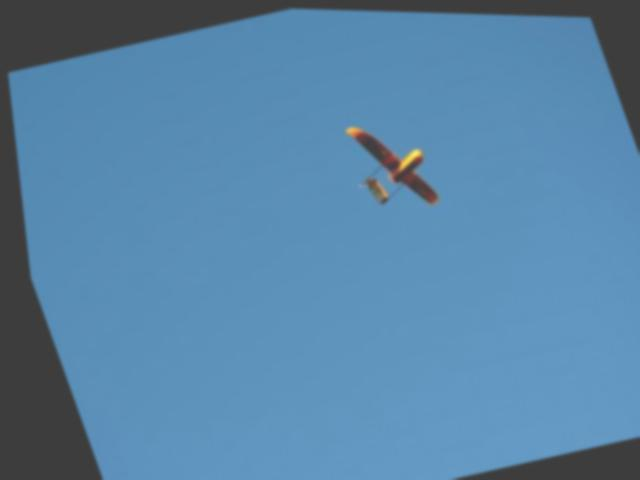iha: (327, 104, 449, 227)
